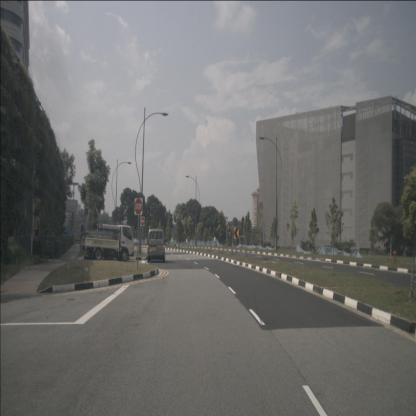vehicle-car: (147, 228, 165, 262)
vehicle-truck: (80, 223, 135, 262)
